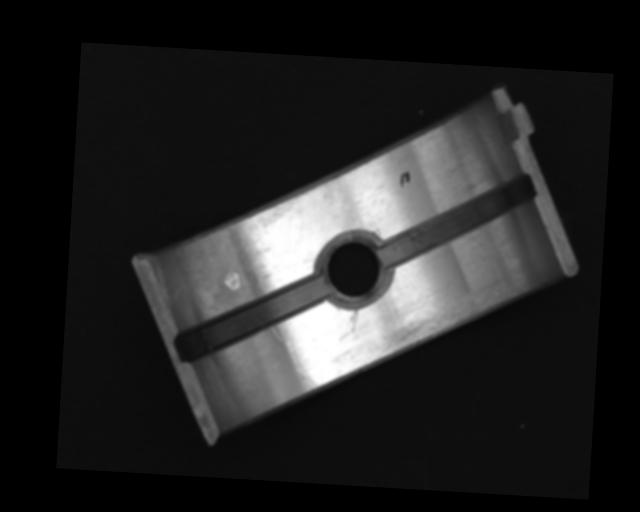blot: (398, 169, 411, 188)
bruise: (222, 270, 240, 291)
gap: (378, 168, 536, 273), (174, 271, 326, 366)
hole: (315, 230, 396, 306)
nick: (283, 339, 321, 391), (349, 307, 358, 333)
scratch: (385, 281, 526, 363)
